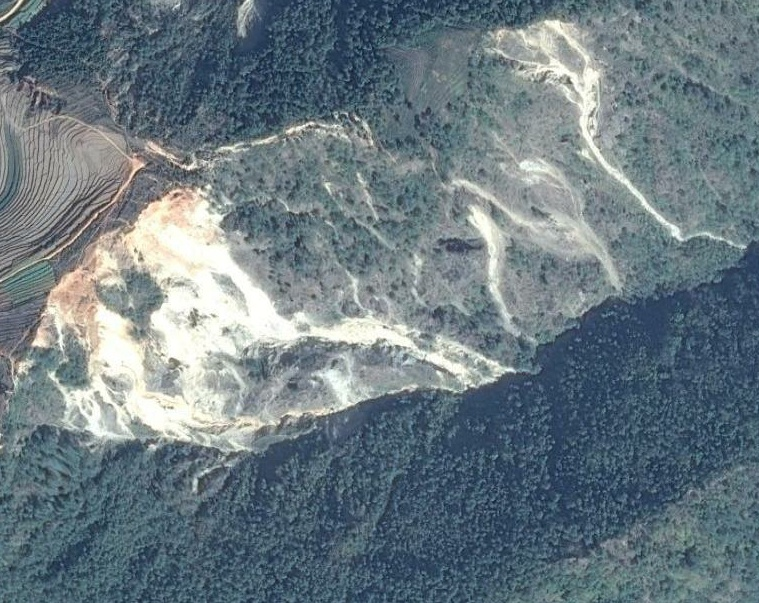slope: (20, 185, 512, 463), (481, 18, 603, 145)
